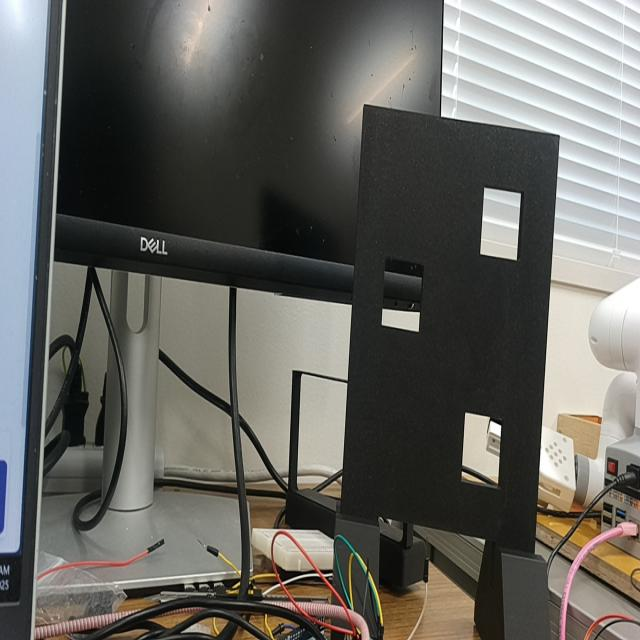Obstacle: (380, 259, 423, 333), (480, 189, 523, 259), (463, 415, 504, 487)
Wall: (341, 105, 559, 549)
